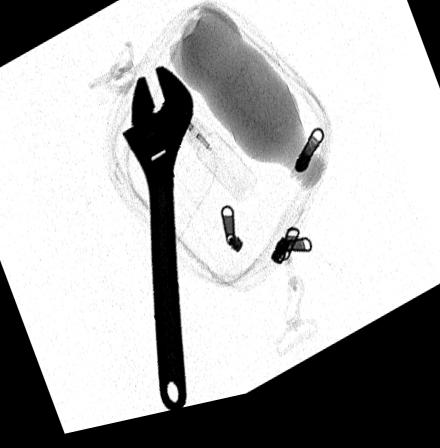Wrench: (120, 73, 194, 418)
